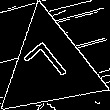L_SE: (22, 37, 77, 96)
